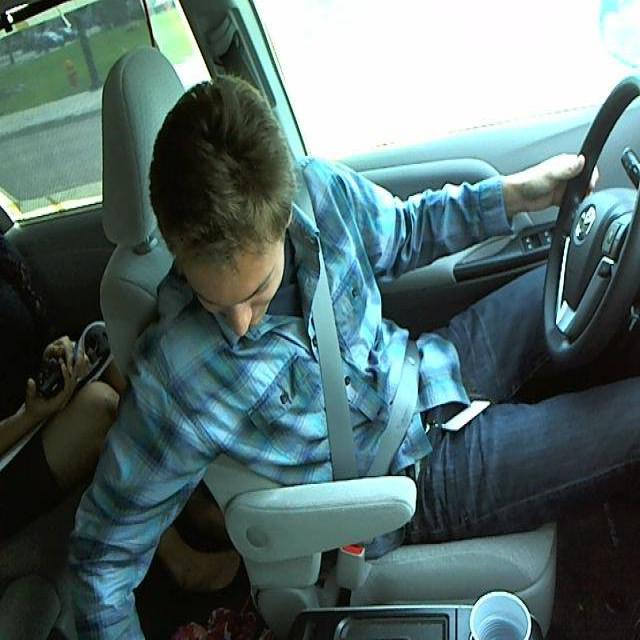seatbelt: (305, 237, 418, 473)
